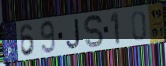0: (130, 10, 148, 42)
1: (110, 11, 122, 47)
6: (19, 23, 36, 58)
9: (40, 19, 57, 56)
J: (65, 18, 82, 51)
S: (83, 14, 105, 50)
